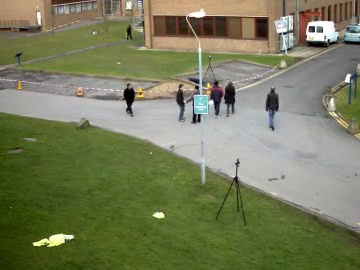person: (175, 83, 192, 120), (122, 82, 136, 114)
